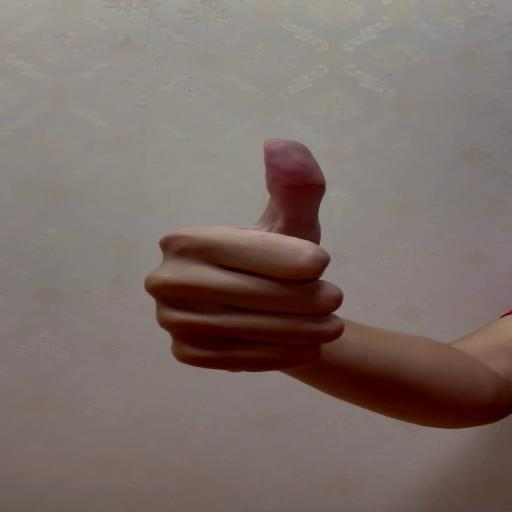thumbs_up: (139, 137, 345, 371)
